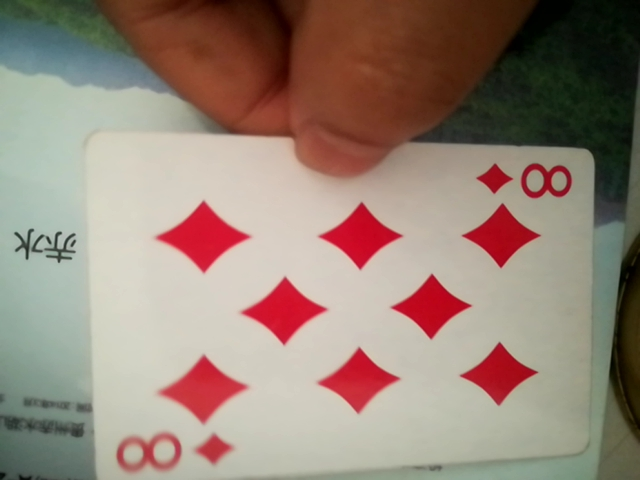fk 8: (66, 119, 605, 477)
